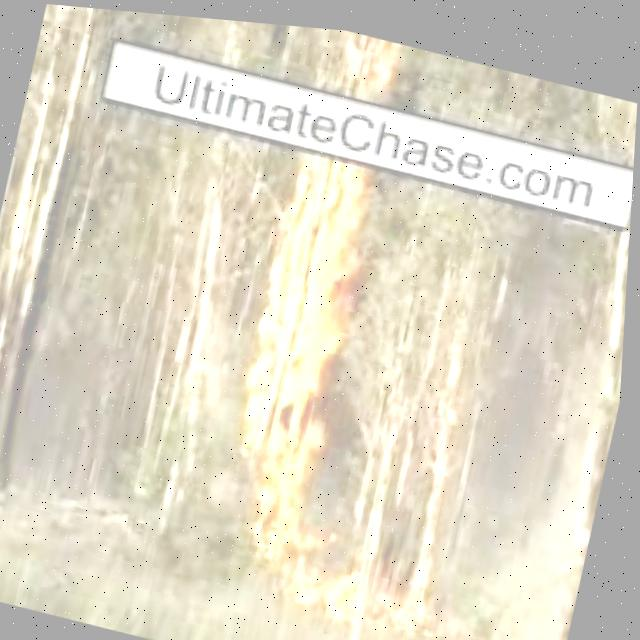Fire: (243, 145, 381, 468), (229, 457, 451, 631), (344, 26, 410, 85)
